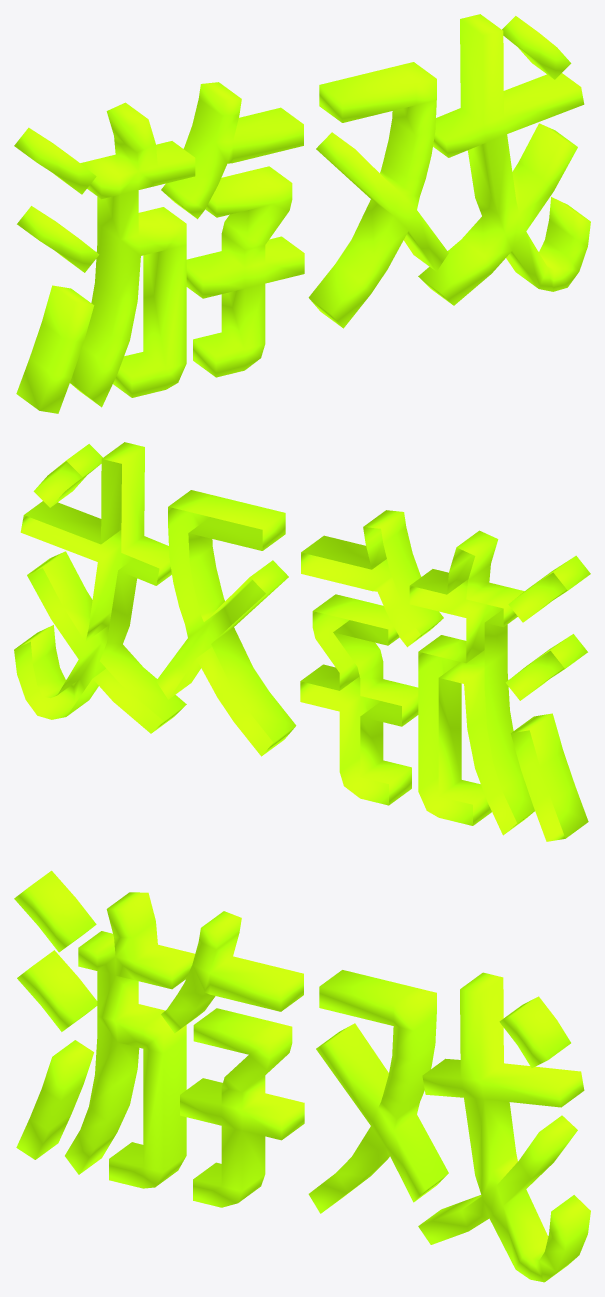
File: Game.glb
The picture shows the model from 3 angles, top to bottom: view 1: azimuth 30°, elevation 25°; view 2: azimuth 150°, elevation 25°; view 3: azimuth 330°, elevation 25°; orthographic projection.
Parts seen in each view (by area): view 1: Game; view 2: Game; view 3: Game.
Part boxes in pixels (x1,y1,x2,y2): Game: [14, 14, 590, 413]; Game: [14, 442, 590, 841]; Game: [14, 870, 590, 1282].
Bounding box in the file's own units: 0.9213 × 0.443 × 0.0664.
1 material, 1 textured.
